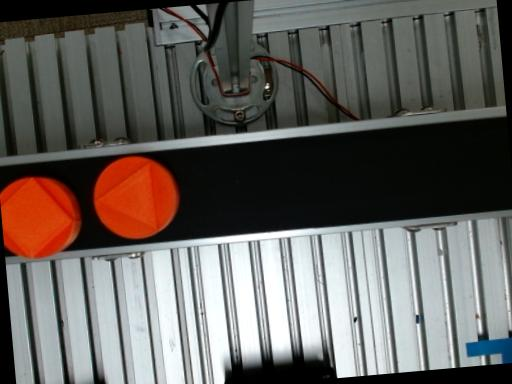Not_Square: (95, 160, 157, 231)
Orange_Waper: (93, 156, 179, 238), (0, 176, 81, 258)
